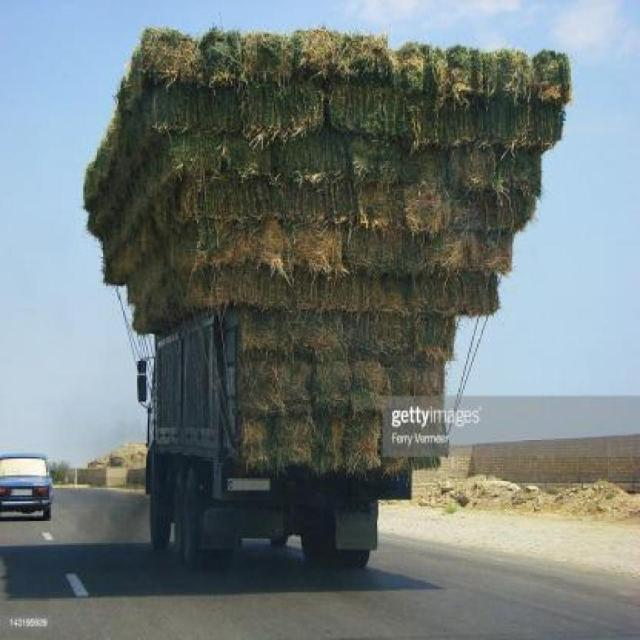normal_truck: (145, 316, 409, 566)
overloaded_truck: (83, 28, 572, 473)
